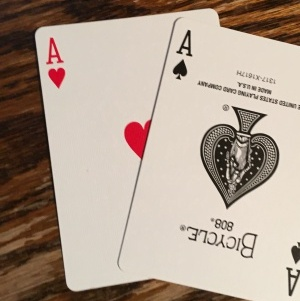card: (33, 15, 174, 286)
